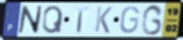G: (140, 4, 164, 37), (119, 6, 141, 35)
K: (93, 5, 113, 34)
N: (17, 5, 44, 35)
Q: (42, 5, 65, 35)
T: (73, 6, 90, 34)
